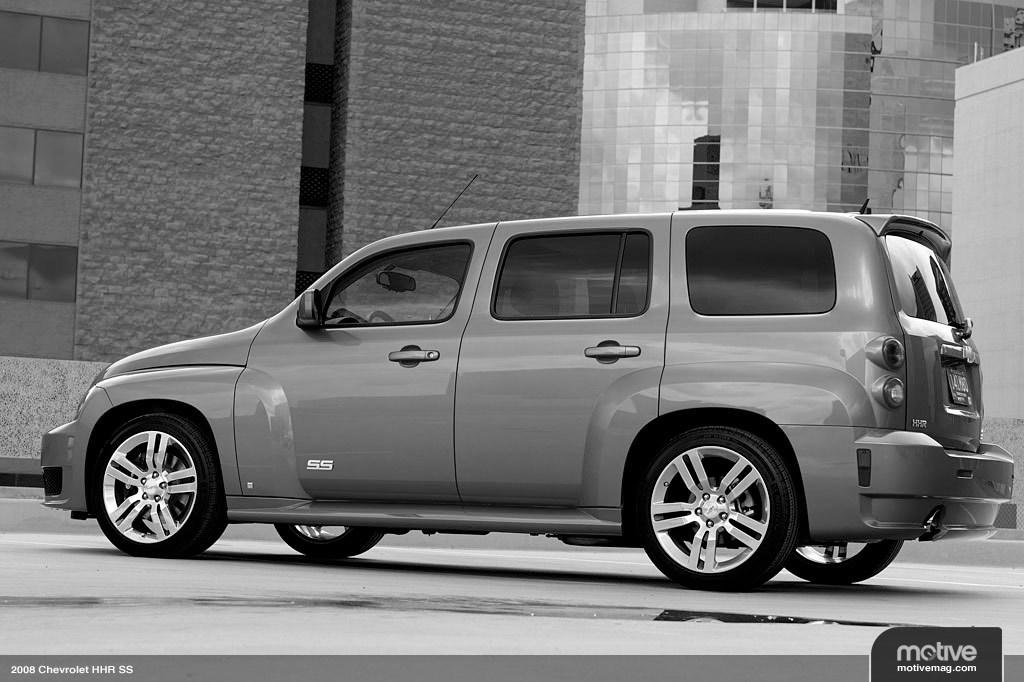car: (30, 209, 1014, 589)
